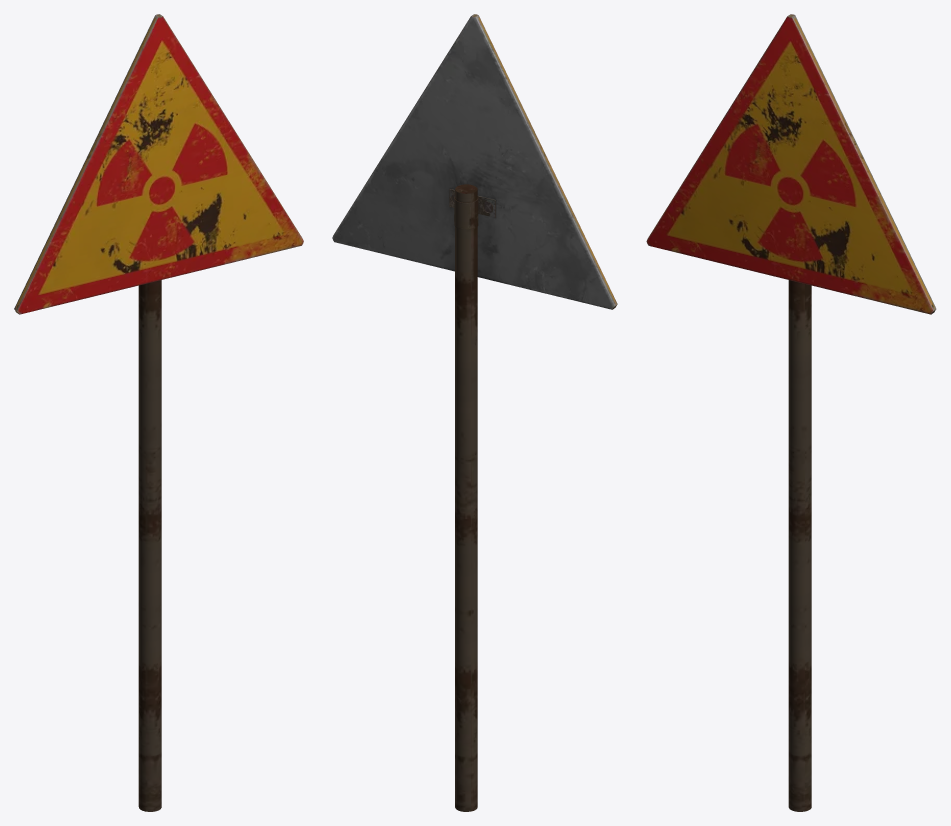
Rendered from p_radiation_sign.glb.
3 views of the same model, side by side, from view 1: azimuth 30°, elevation 25°; view 2: azimuth 150°, elevation 25°; view 3: azimuth 330°, elevation 25° (orthographic).
Size of the model in its own units: 2.02 by 5.36 by 0.2075.
Materials: 1 (1 with a texture image).
